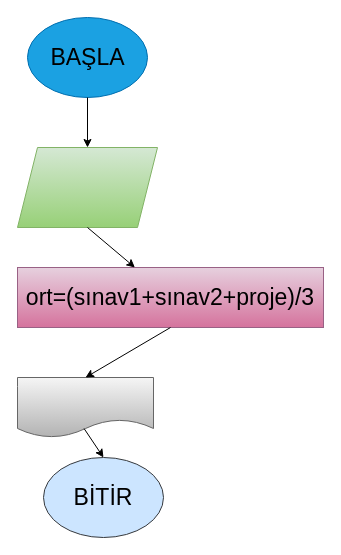
Some shapes in this 341 by 555 pixel diagram are drawn without their labels. Here are the shapes that lost their labels. From the top down, the centre of each, then its label:
At point 87,187: "sınav1,sınav2, proje".
At point 85,407: "ort".
